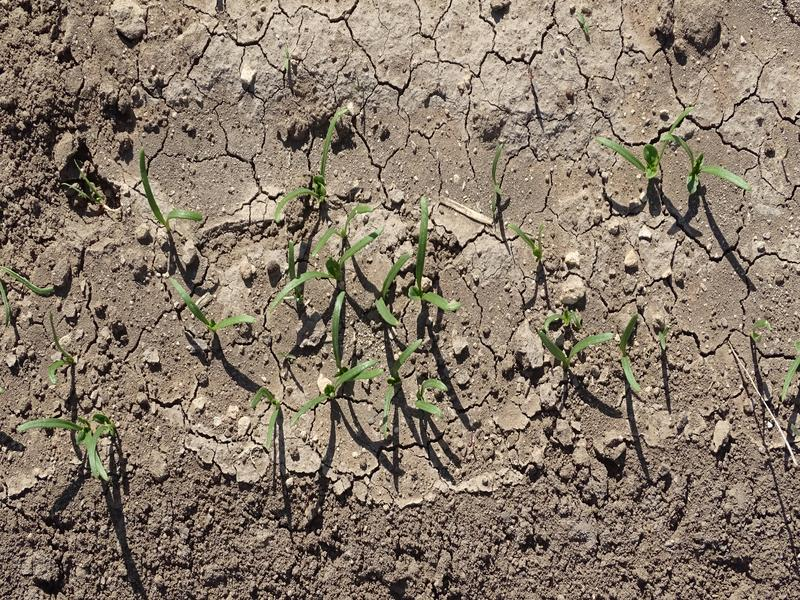Espinaca: (282, 153, 466, 339), (14, 363, 125, 478), (301, 338, 458, 418), (612, 129, 756, 199), (138, 149, 206, 238), (169, 272, 257, 332), (250, 389, 283, 446)
